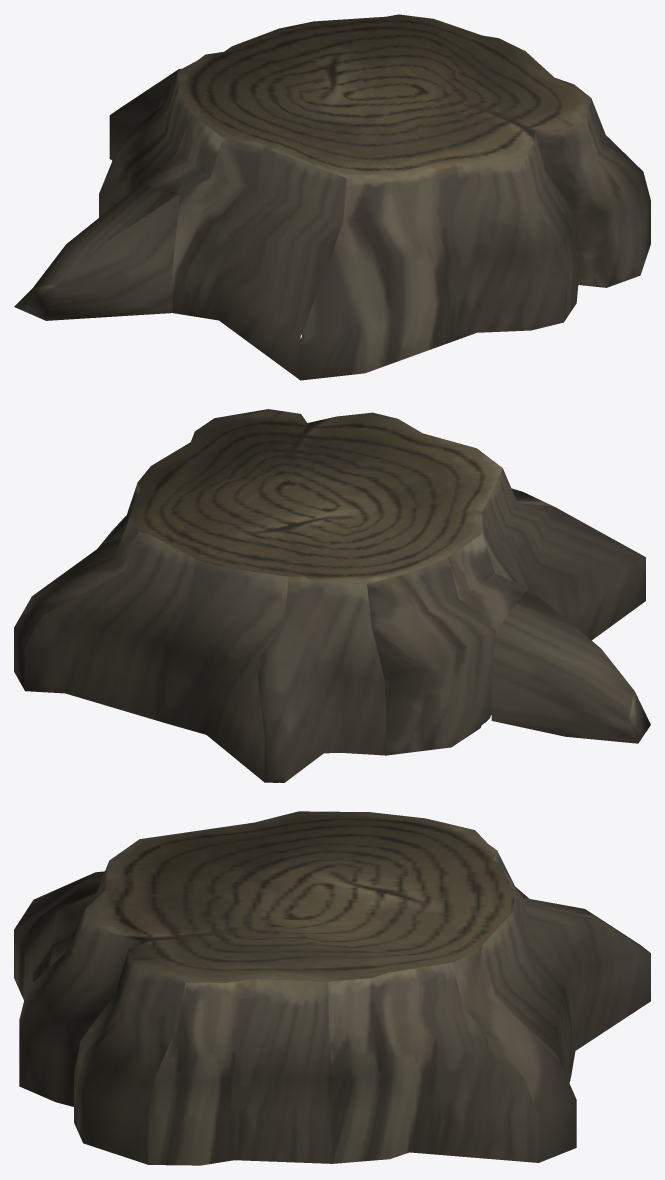
The model's file is largestump.fbx.
3 views of the same model, one above another, from view 1: azimuth 30°, elevation 25°; view 2: azimuth 150°, elevation 25°; view 3: azimuth 270°, elevation 25° (orthographic). The views are drawn at different scales.
Parts seen in each view (by area): view 1: stump; view 2: stump; view 3: stump.
Part boxes in pixels (left/top/right/bottom): stump: left=14, top=14, right=650, bottom=380; stump: left=14, top=409, right=650, bottom=782; stump: left=14, top=811, right=650, bottom=1165.
Size of the model in its own units: 250 by 63.48 by 230.
